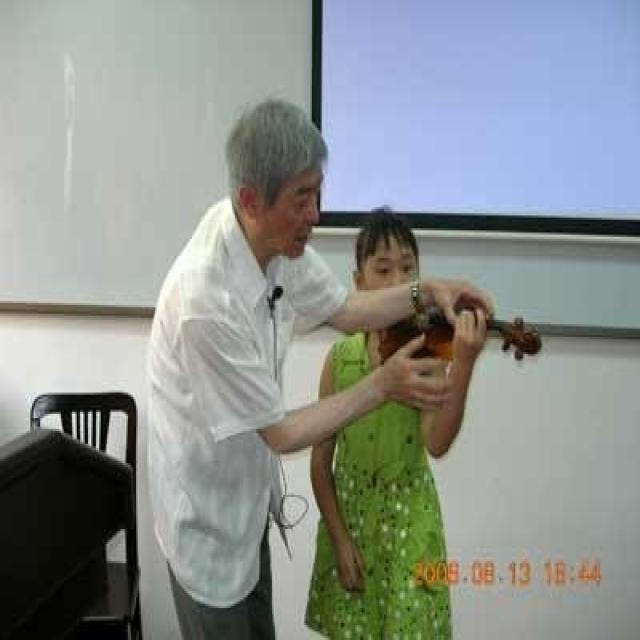violin: (371, 292, 551, 363)
